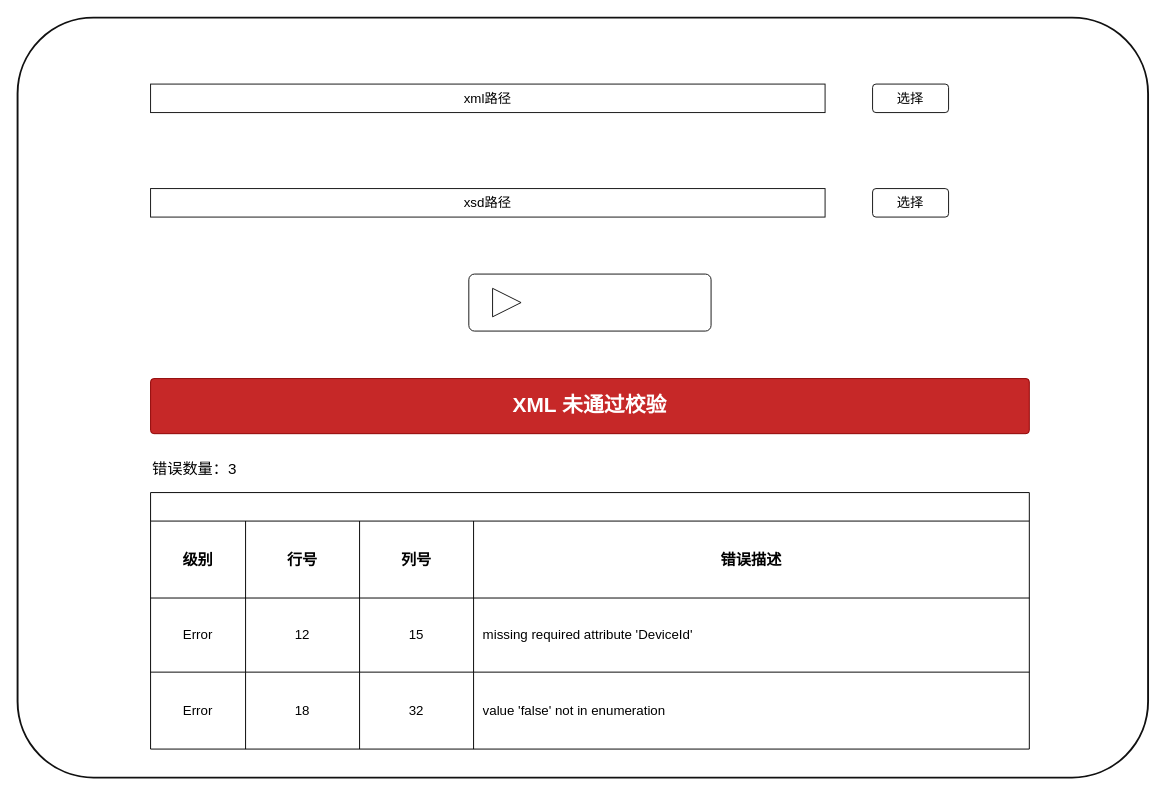
This 1165x794 diagram has some shape labels left out. The box of each missing label's shape, as (x1, y1, x2, y2) in pixels:
开始校验: (468, 273, 711, 331)
校验结果详情: (150, 492, 1029, 749)
